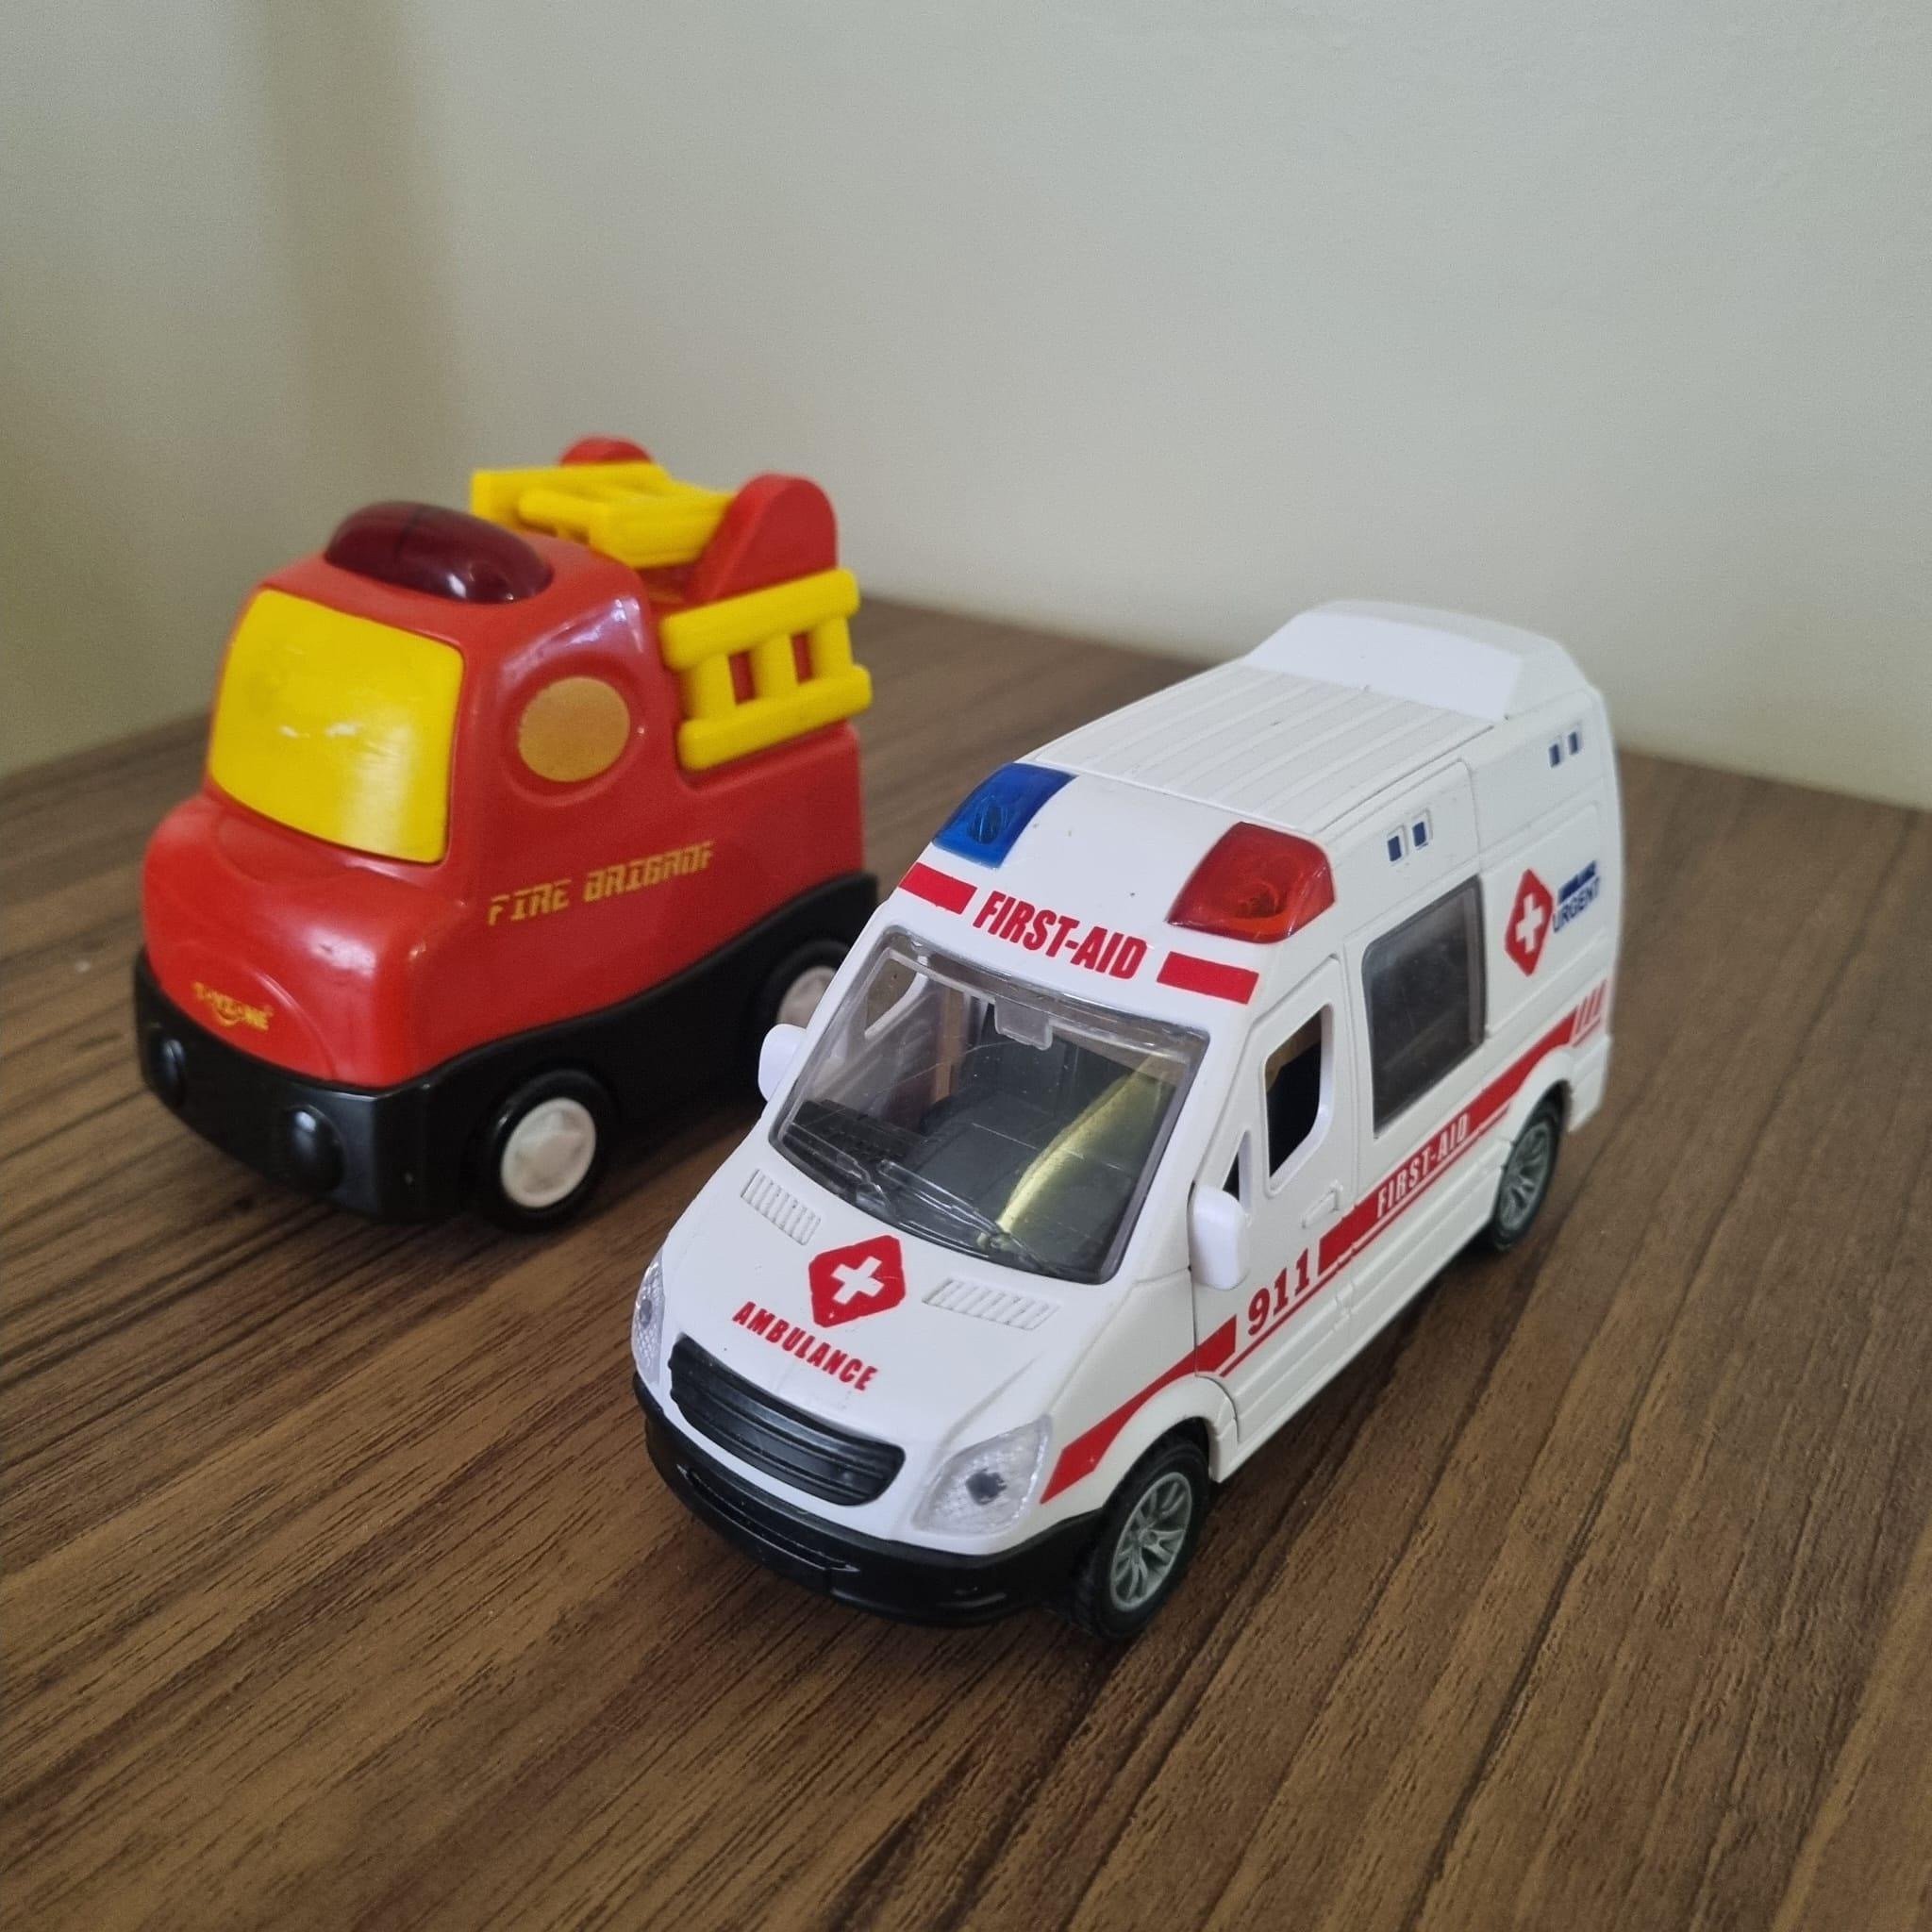ambulance_off: (635, 594, 1622, 1638)
firetruck_off: (136, 433, 881, 1212)
